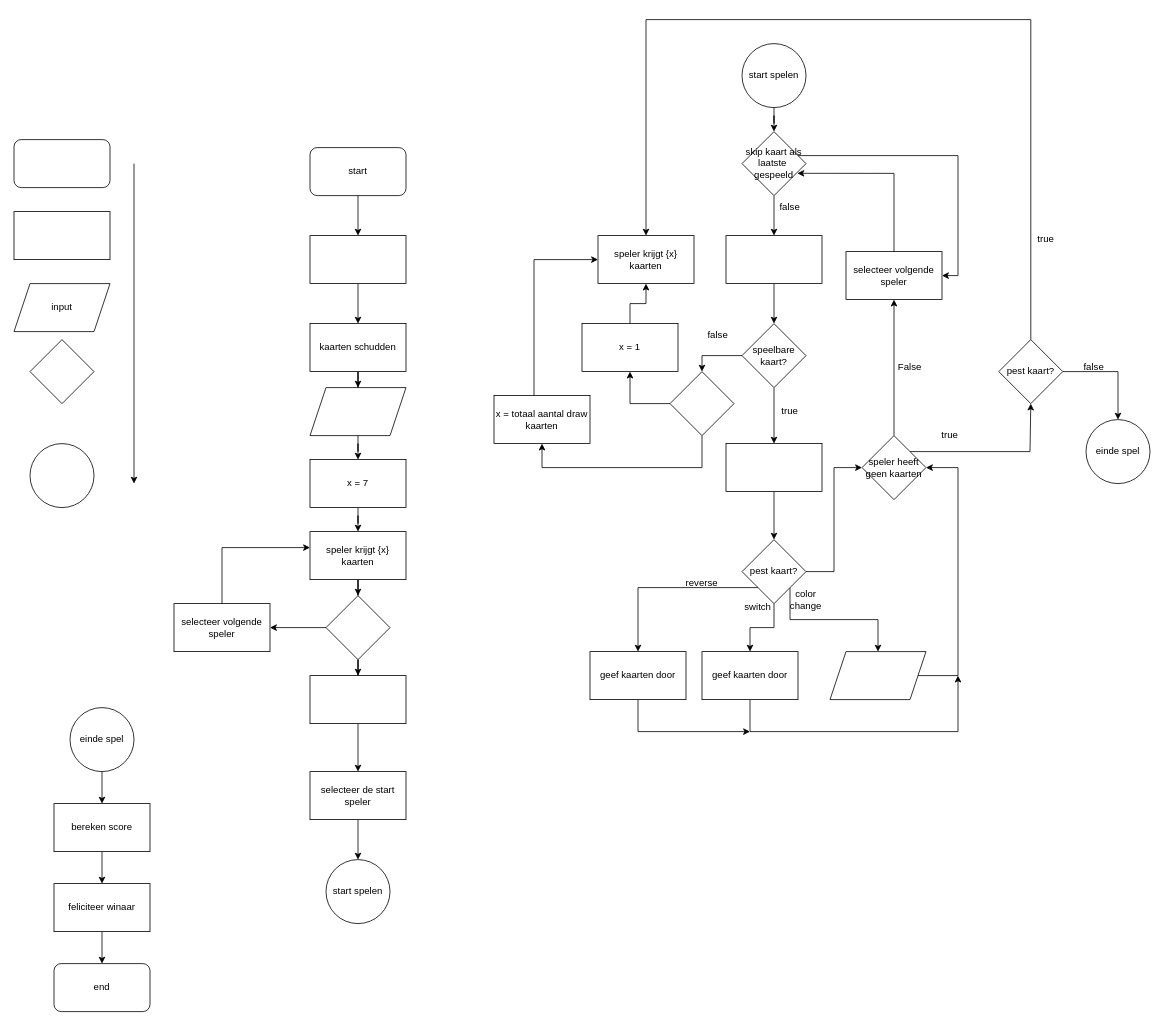
The diagram is 1164 pixels wide and 1026 high, and some of its shapes have lost their labels. The shapes that lost their labels are listed below. From the top down, each one's centre as x and y in pixels, then its label:
the point at 61,163: start/end
the point at 61,235: funcionaliteit
the point at 357,259: genereer kaarten
the point at 773,259: speler controleert of hij kan
the point at 61,371: conditie
the point at 357,411: hoeveel spelers
the point at 701,403: vorige kaart draw?
the point at 61,475: goto
the point at 773,467: speel kaart
the point at 357,627: elke speler 7 kaarten
the point at 877,675: kleur
the point at 357,699: leg start kaart op tafel
